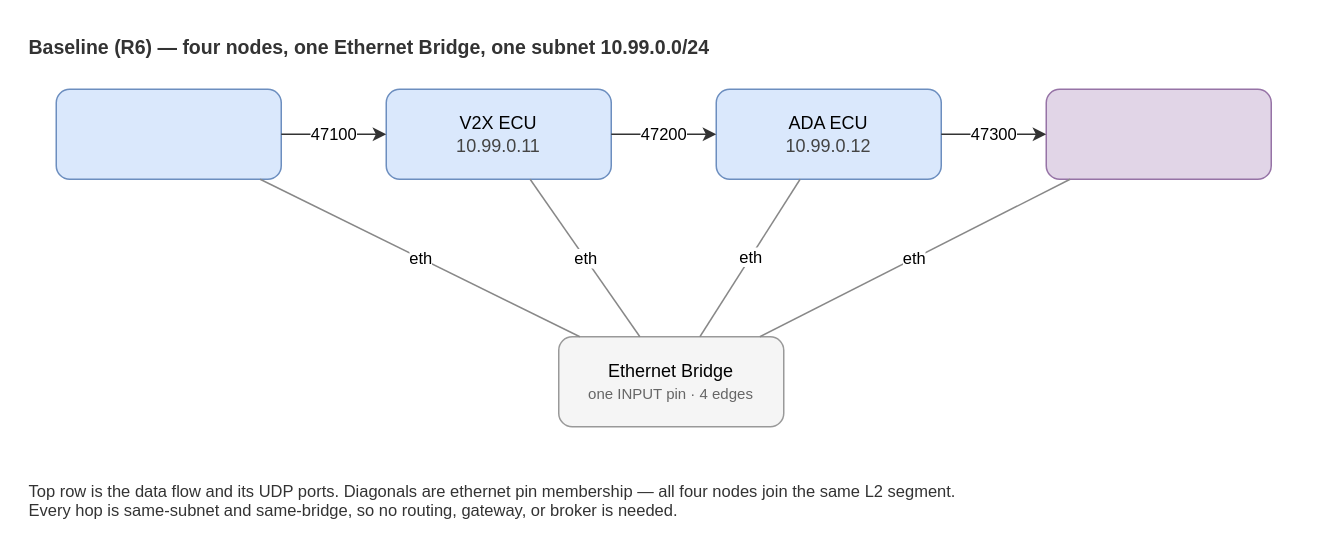
Image size: 1341x557. Some labels were removed from this diagram. Here are the shapes that lost their labels. From the top down, the centre of each, then its label:
At point (168, 133): "Bench 10.99.0.10".
At point (1158, 133): "IVI ECU (AAOS) 10.99.0.13".
